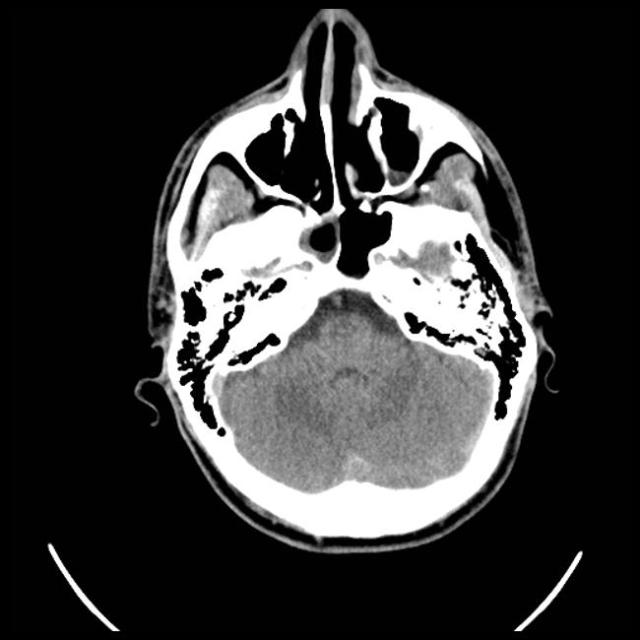lesion: (135, 8, 559, 554)
